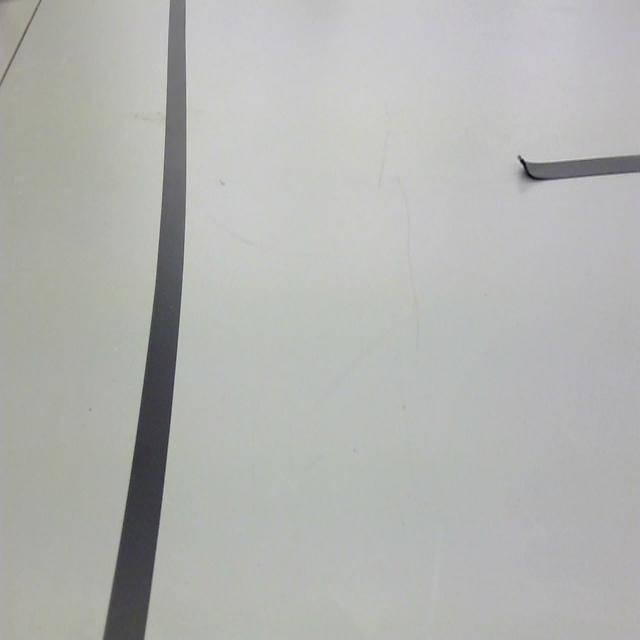tape: (87, 0, 204, 640), (490, 131, 640, 236)
